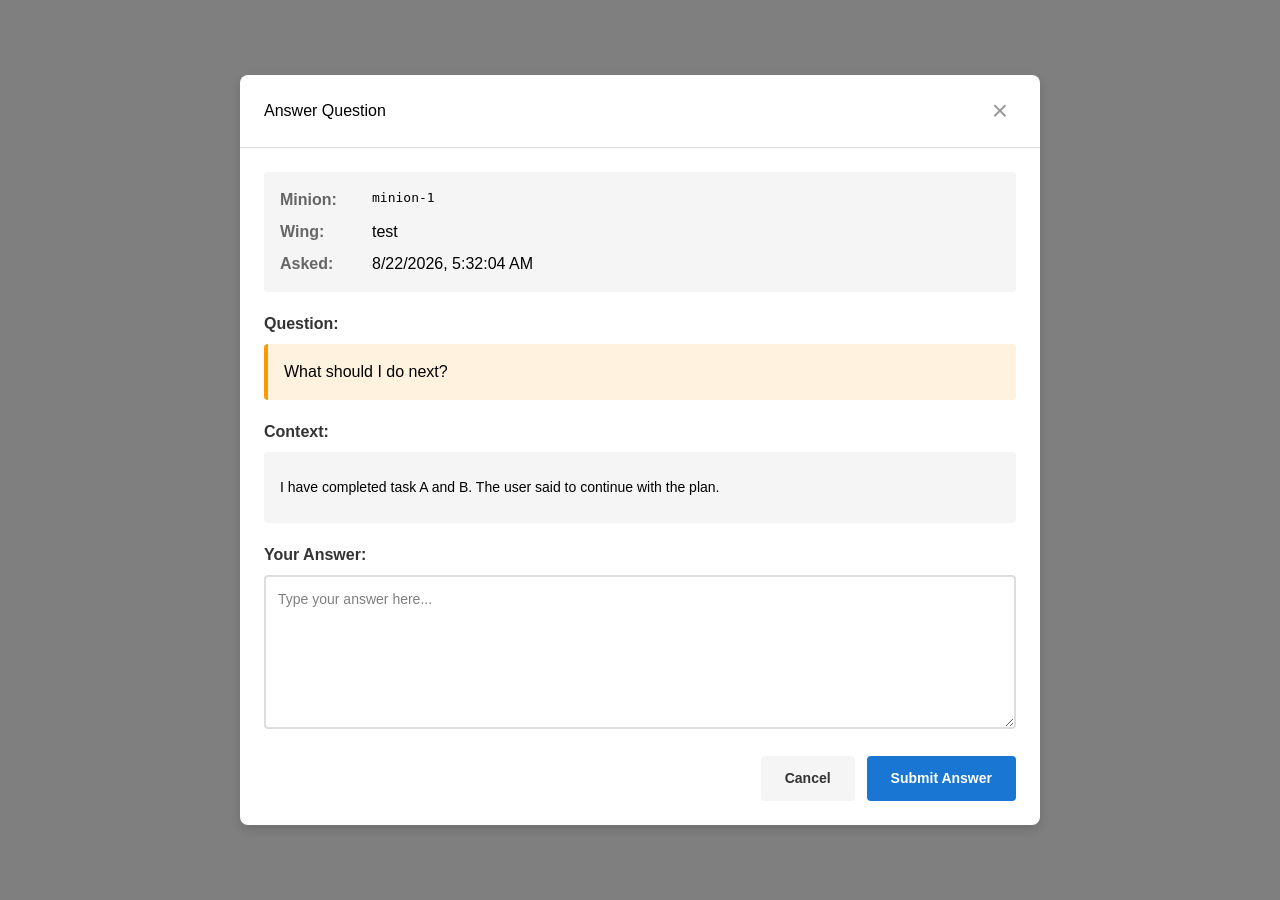
Test: QuestionDetail › disables buttons while submitting
This screenshot has width=1280, height=900.
Step 1. Type "Answer" into the text box labelled "Your Answer:" → [640, 652], box [264,575,1016,729]
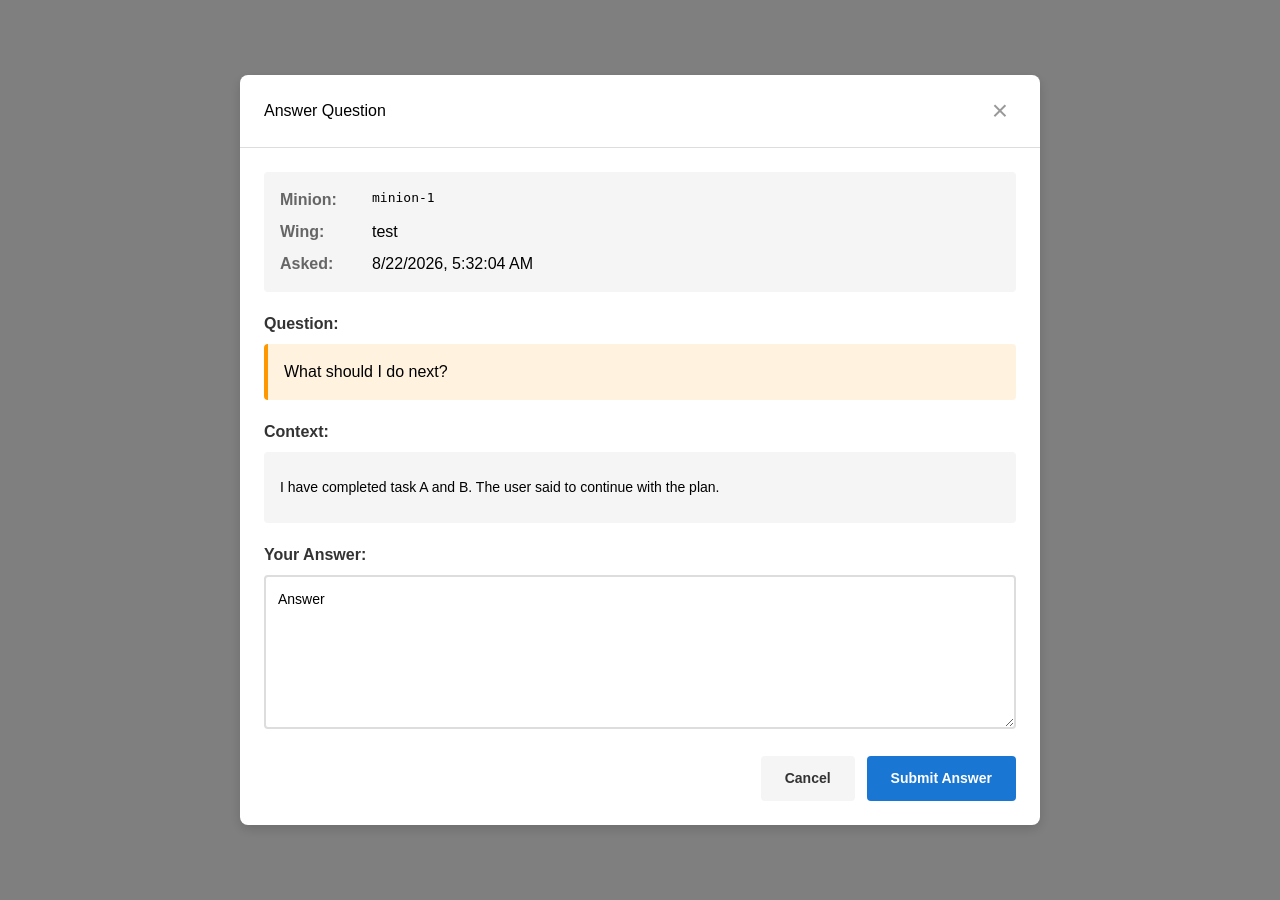
Step 2. Submit the form, box [264,543,1016,801]
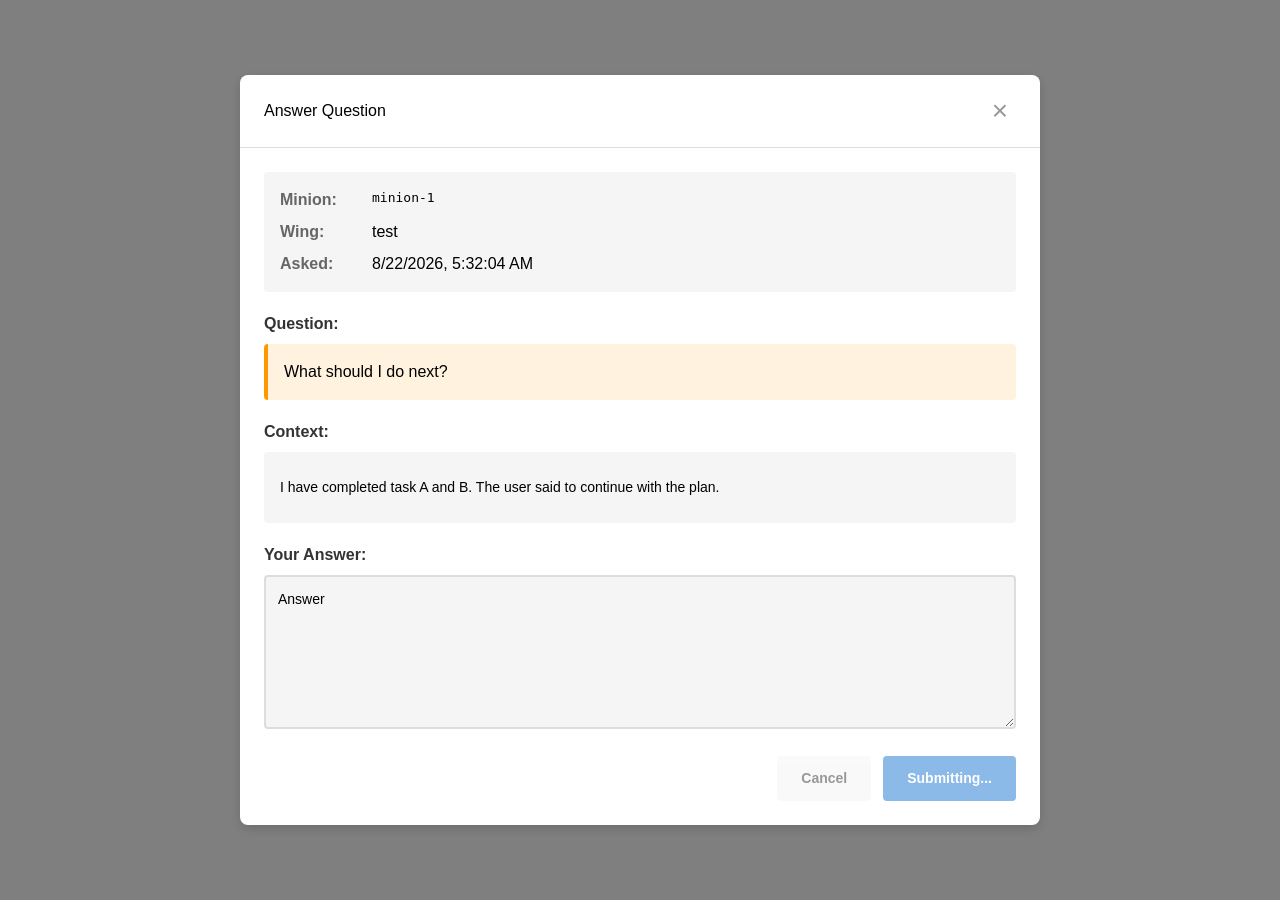
Check: the button with class "cancel-btn" is disabled, box [777,756,871,801]
Check: the button with class "submit-btn" is disabled, box [883,756,1016,801]
